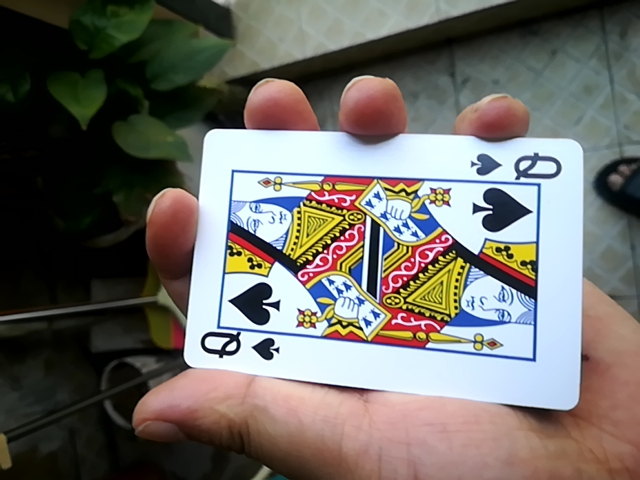ht q: (173, 117, 590, 413)
